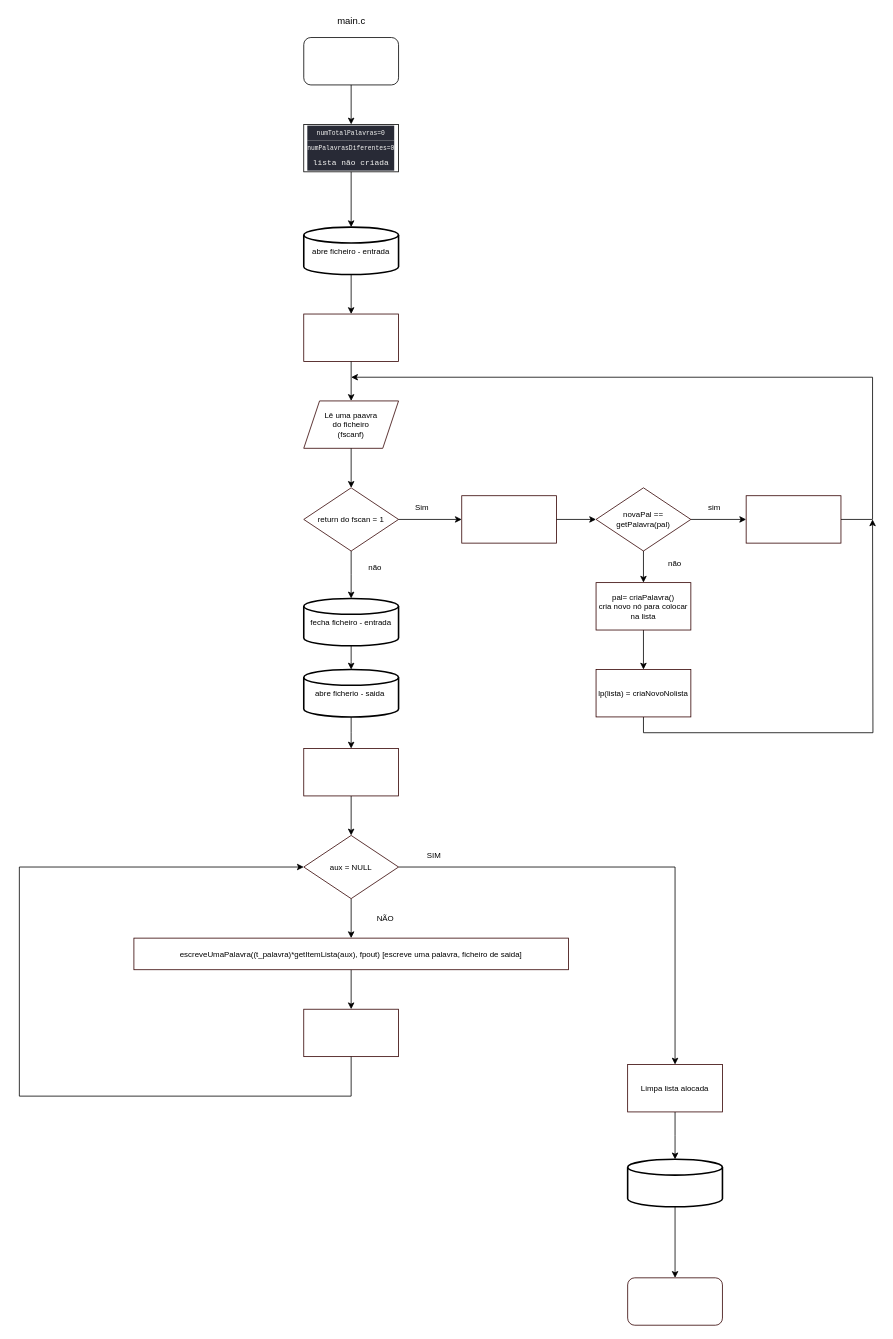
Some shapes in this 893 by 1339 pixel diagram are drawn without their labels. Each missing label, with the centre of its shape:
"aux = getProxElemento(aux)" goes at pixel 351 1032.
"aux = lp" goes at pixel 351 772.
"Cria uma lista para guardar as palavras" goes at pixel 351 337.
"Entra no testa palavra" goes at pixel 509 519.
"fecha ficherio - saida" goes at pixel 674 1182.
"incOcorr(lp) (aumenta ocorrencias)" goes at pixel 793 519.
